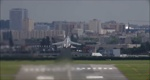maybay_muctieu: (51, 33, 79, 50)
